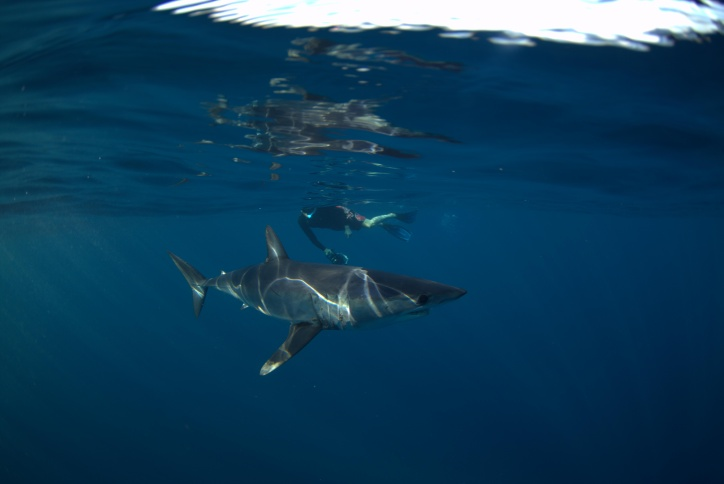Mako: (143, 223, 471, 378)
